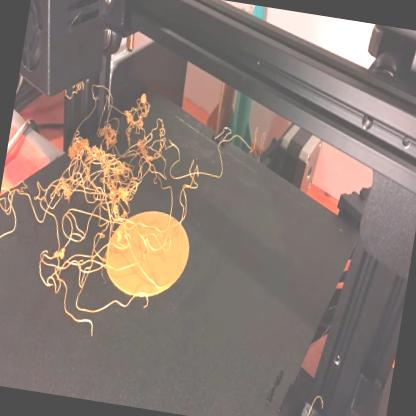fail: (1, 69, 200, 340)
